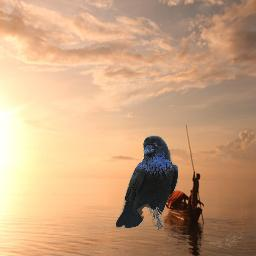Crow: (116, 135, 178, 230)
